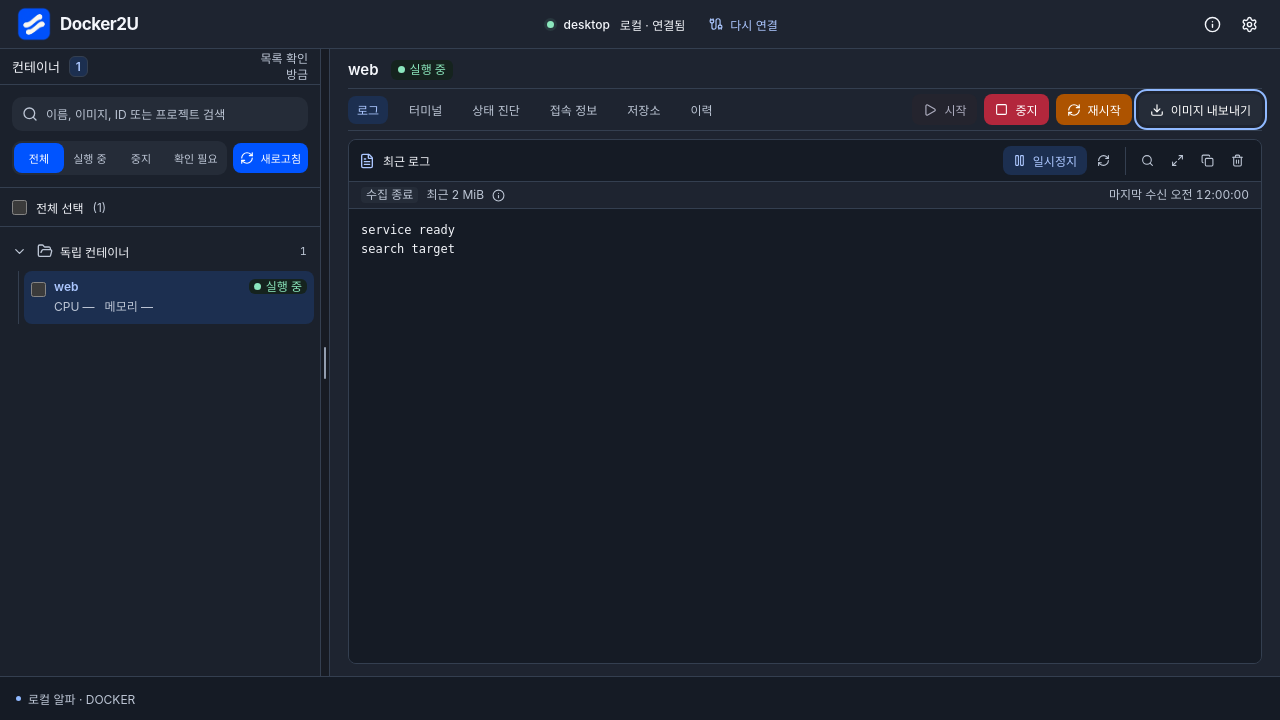
Test: shows a localizable preparation failure and keeps raw diagnostics in a disclosure
expect the list item with aria-label "web 상세" is shown: met, box [24,271,314,324]
Click the button "이미지 내보내기".
click(1200, 110)  # box [1139,94,1262,125]
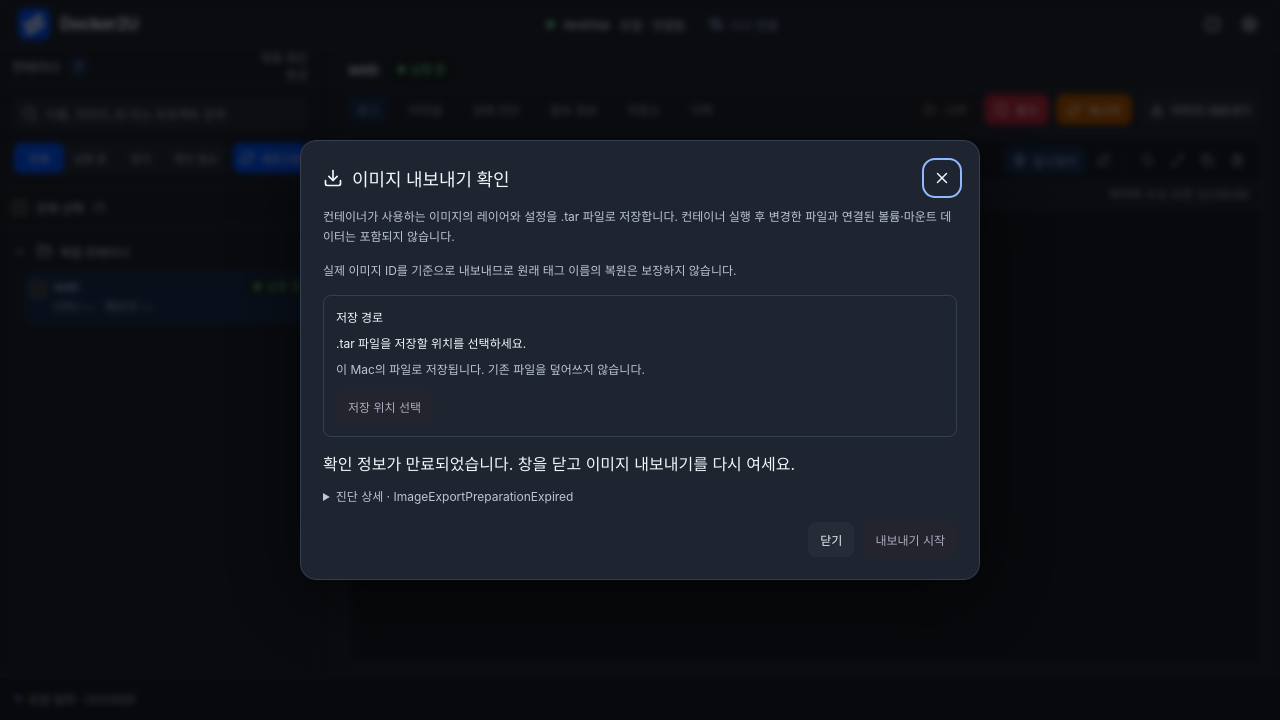
expect the text "확인 정보가 만료되었습니다. 창을 닫고 이미지 내보내기를 다시 여세요." is shown: met, box [323,454,795,474]
